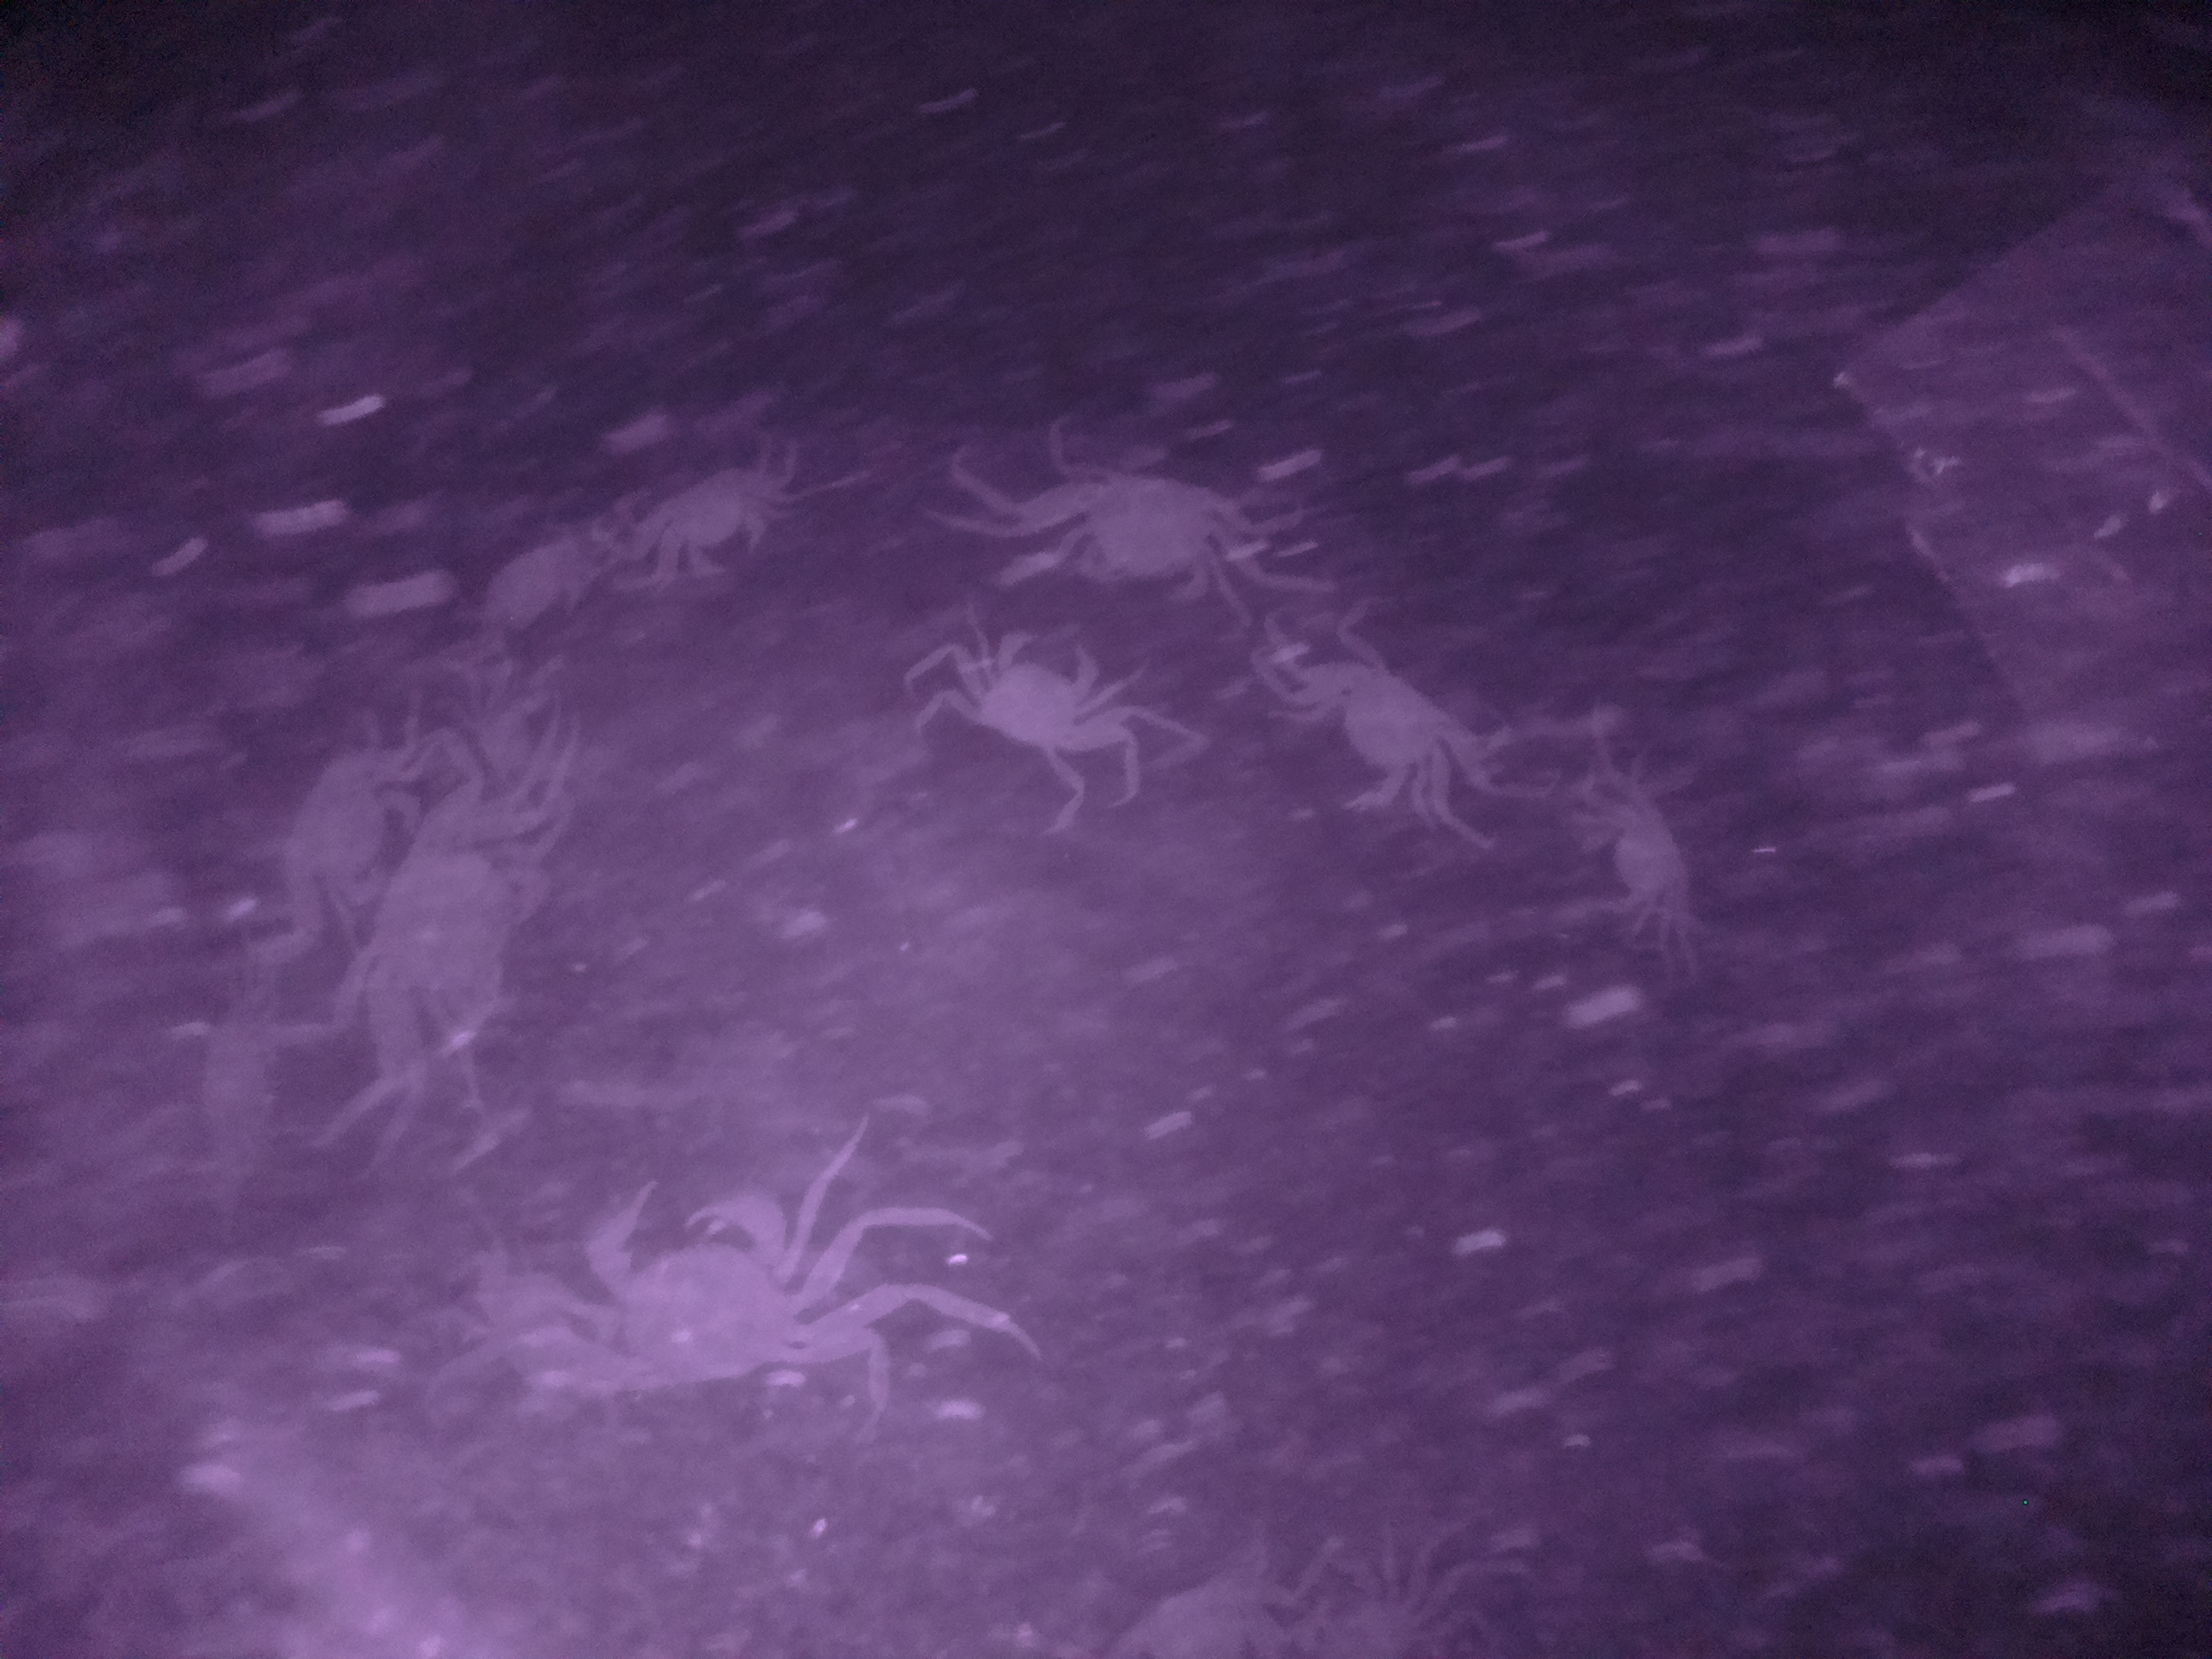Crab: (1252, 641, 1489, 819), (1038, 439, 1252, 617), (941, 627, 1146, 760)
